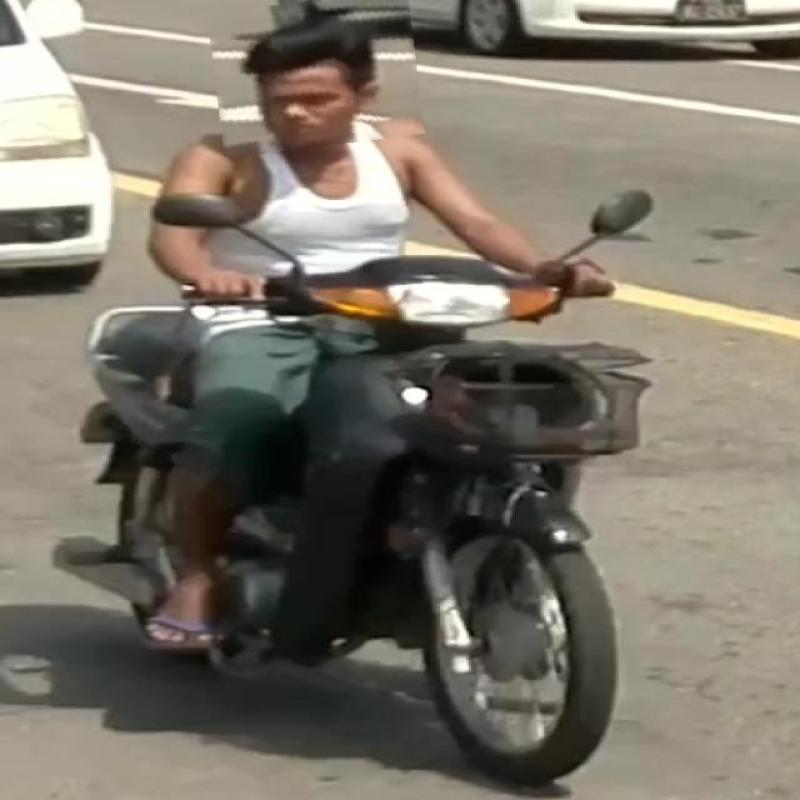nohelmet: (210, 0, 421, 151)
